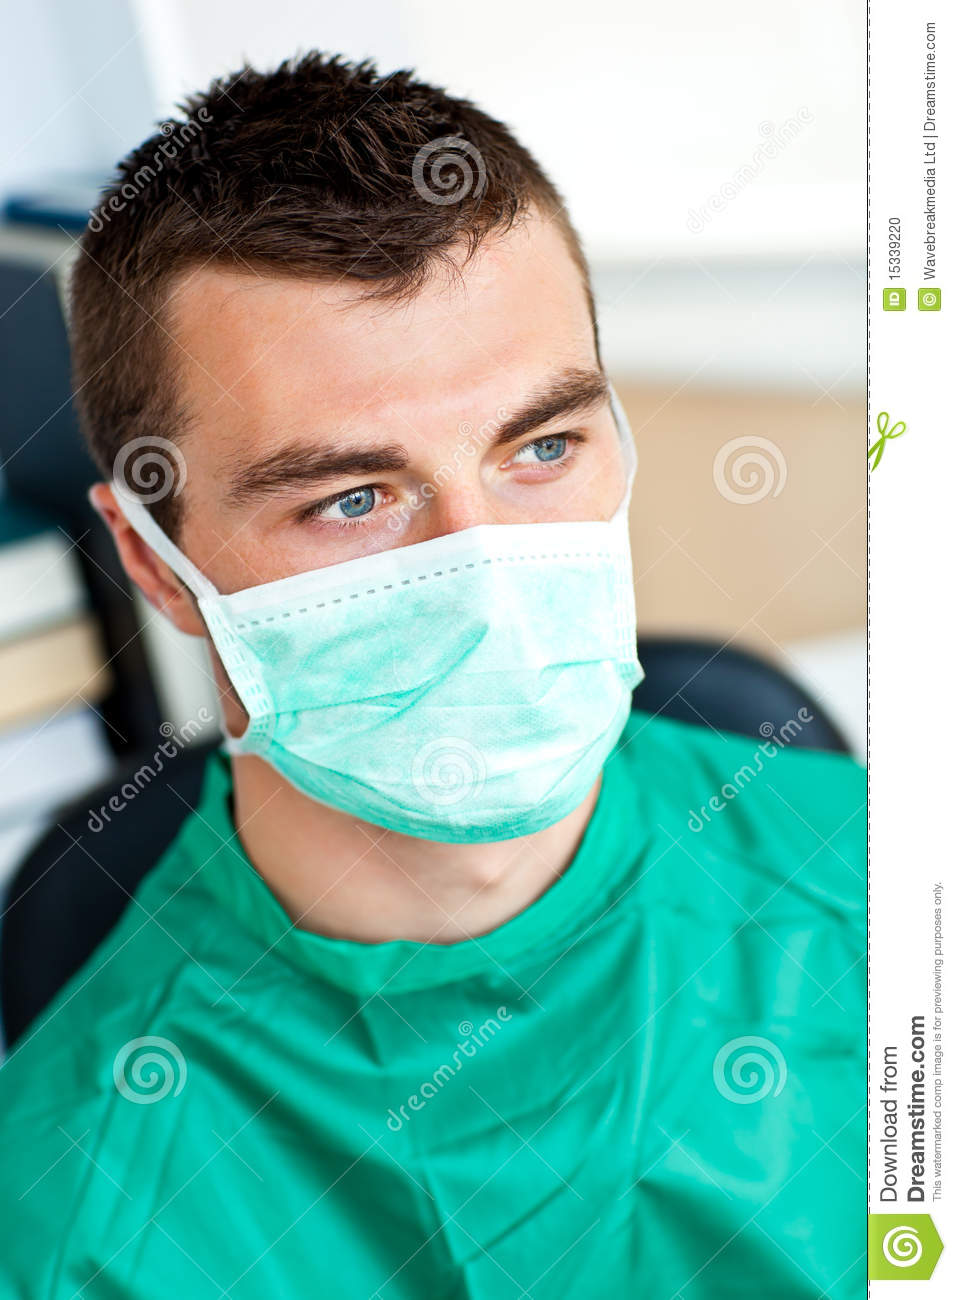mask: (202, 537, 662, 845)
